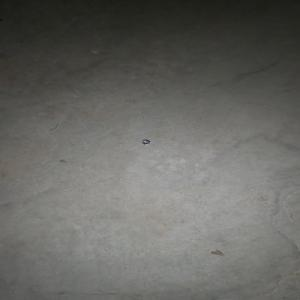Nut: (140, 139, 150, 144)
